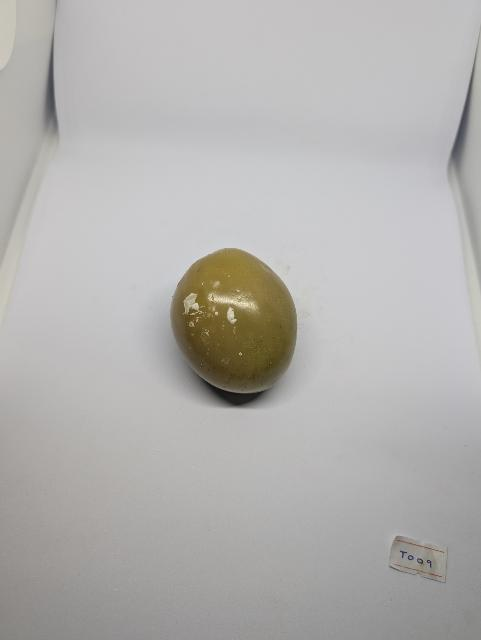defect: (168, 247, 300, 397)
